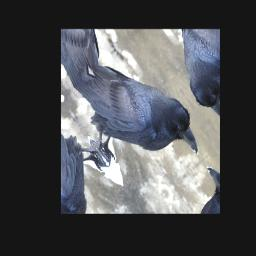Crow: (62, 34, 210, 206)
